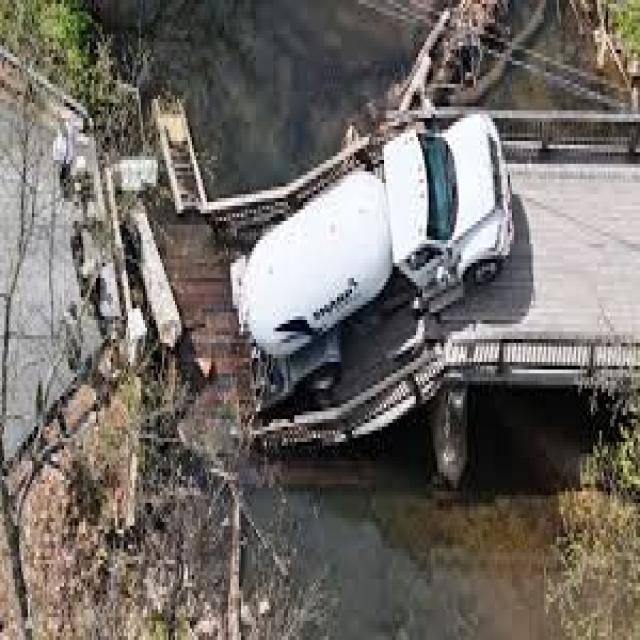bridge collapse: (89, 25, 548, 566)
